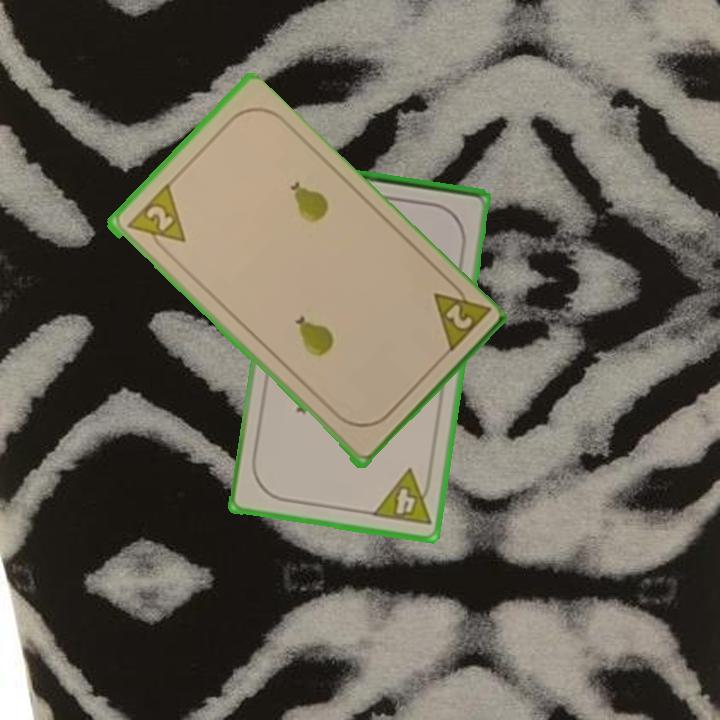2p: (428, 275, 491, 358), (122, 181, 189, 258)
4p: (368, 465, 436, 529)
